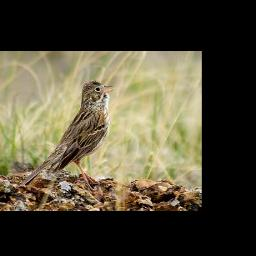Sparrow: (16, 76, 119, 195)
